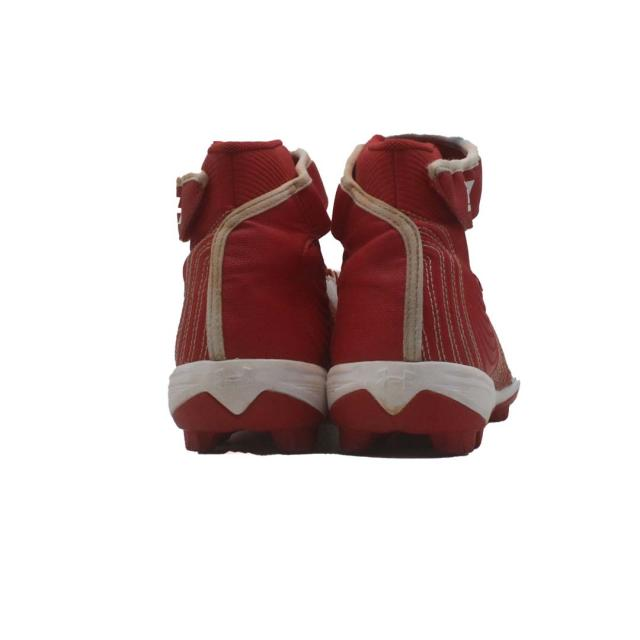heel: (172, 137, 325, 361), (333, 137, 478, 364)
midsole: (325, 361, 500, 450), (163, 361, 324, 453)
